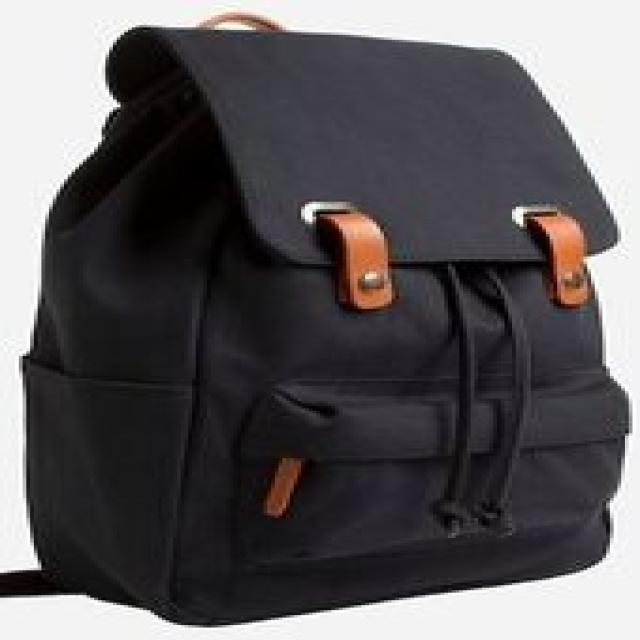backpack: (1, 11, 630, 626)
